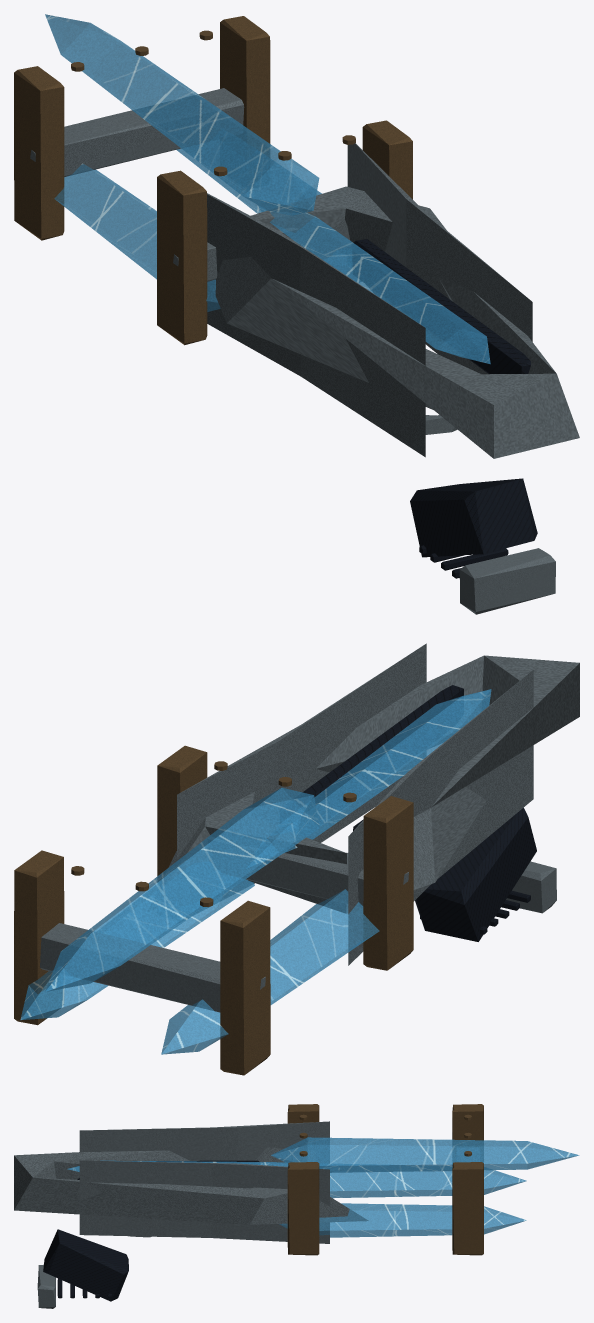
Rendered from rime-focus-ready-lod1.glb.
The picture shows the model from 3 angles, top to bottom: view 1: azimuth 30°, elevation 25°; view 2: azimuth 150°, elevation 25°; view 3: azimuth 270°, elevation 25°; orthographic projection. The views are drawn at different scales.
Visible parts, largest first — view 1: Sculpted open silver receiver, Swept receiver fin, Independent ice cartridge, Swept receiver fin.001, Cartridge clamp bridge.001, Rear dorsal ice conduit, Locking cartridge side bracket, Locking cartridge side bracket.002, Angled slate pistol grip, Slate receiver spine.001, Independent ice cartridge.001, Locking cartridge side bracket.003 (+3 smaller); view 2: Sculpted open silver receiver, Independent ice cartridge, Swept receiver fin.001, Swept receiver fin, Cartridge clamp bridge.001, Independent ice cartridge.001, Locking cartridge side bracket.002, Locking cartridge side bracket, Angled slate pistol grip, Rear dorsal ice conduit, Slate receiver spine.001, Locking cartridge side bracket.003 (+4 smaller); view 3: Sculpted open silver receiver, Swept receiver fin.001, Independent ice cartridge, Swept receiver fin, Independent ice cartridge.002, Angled slate pistol grip, Independent ice cartridge.001, Locking cartridge side bracket.001, Locking cartridge side bracket.003, Locking cartridge side bracket.002, Silver flared grip heel, Locking cartridge side bracket (+2 smaller).
Boxes of the visible parts, box(x1,y1,x2,y2) form: Sculpted open silver receiver: box(213, 186, 579, 458); Swept receiver fin: box(207, 193, 425, 457); Independent ice cartridge: box(45, 14, 319, 215); Swept receiver fin.001: box(347, 143, 532, 374); Cartridge clamp bridge.001: box(30, 88, 244, 176); Rear dorsal ice conduit: box(245, 185, 490, 364); Locking cartridge side bracket: box(157, 170, 207, 345); Locking cartridge side bracket.002: box(14, 66, 64, 240); Angled slate pistol grip: box(410, 478, 537, 557); Slate receiver spine.001: box(353, 239, 530, 374); Independent ice cartridge.001: box(54, 163, 220, 311); Locking cartridge side bracket.003: box(220, 16, 270, 156); Sculpted open silver receiver: box(161, 655, 579, 913); Independent ice cartridge: box(45, 787, 319, 991); Swept receiver fin.001: box(177, 643, 426, 912); Swept receiver fin: box(348, 670, 533, 965); Cartridge clamp bridge.001: box(40, 923, 265, 1012); Independent ice cartridge.001: box(161, 889, 379, 1054); Locking cartridge side bracket.002: box(220, 900, 270, 1075); Locking cartridge side bracket: box(363, 796, 413, 970); Angled slate pistol grip: box(415, 807, 536, 941); Rear dorsal ice conduit: box(246, 689, 491, 868); Slate receiver spine.001: box(280, 685, 463, 824); Locking cartridge side bracket.003: box(14, 850, 64, 1025); Sculpted open silver receiver: box(14, 1147, 368, 1224); Swept receiver fin.001: box(79, 1160, 329, 1243); Independent ice cartridge: box(271, 1137, 579, 1172); Swept receiver fin: box(79, 1121, 329, 1162); Independent ice cartridge.002: box(279, 1203, 526, 1237); Angled slate pistol grip: box(43, 1229, 128, 1301); Independent ice cartridge.001: box(330, 1170, 526, 1198); Locking cartridge side bracket.001: box(287, 1162, 319, 1255); Locking cartridge side bracket.003: box(452, 1162, 483, 1255); Locking cartridge side bracket.002: box(452, 1104, 483, 1162); Silver flared grip heel: box(37, 1264, 55, 1308); Locking cartridge side bracket: box(287, 1104, 319, 1123).
Bounding box in the file's own units: 0.234 × 0.275 × 0.86.
Materials: 4 (4 with a texture image).
